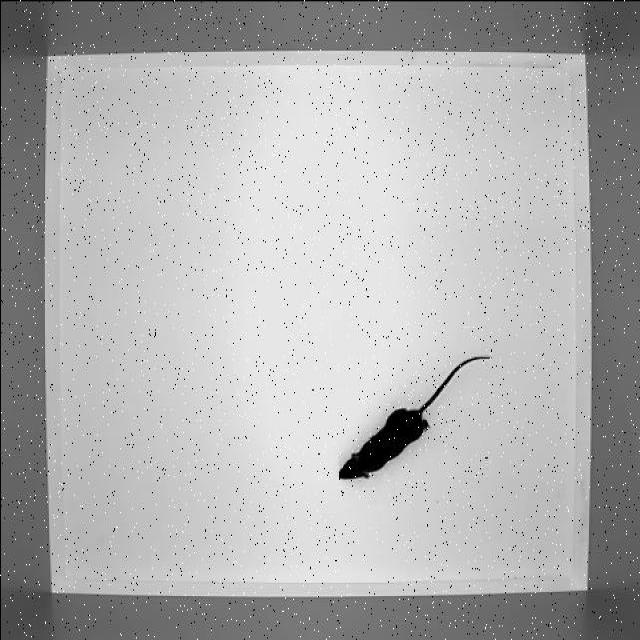rat: (340, 355, 488, 480)
